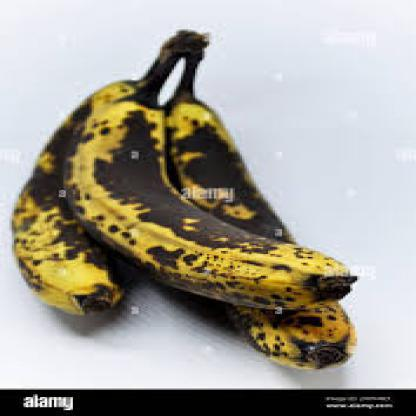banana_rotten: (40, 13, 402, 371)
